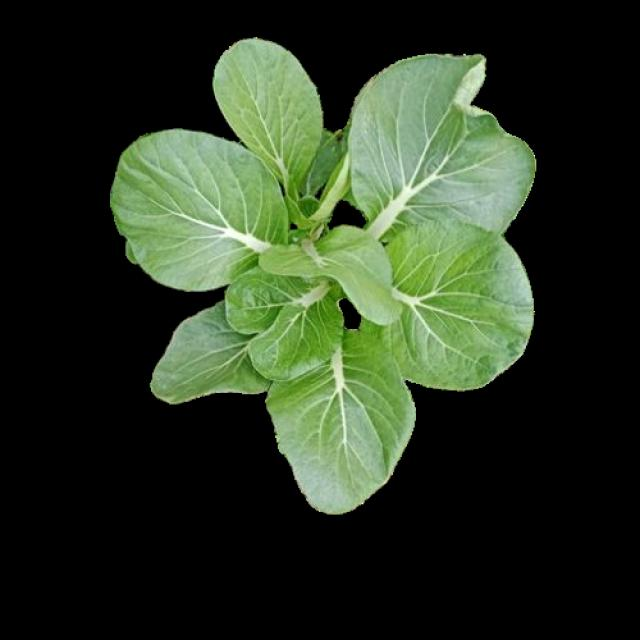healthy: (107, 38, 534, 511)
mature: (110, 41, 536, 513)
